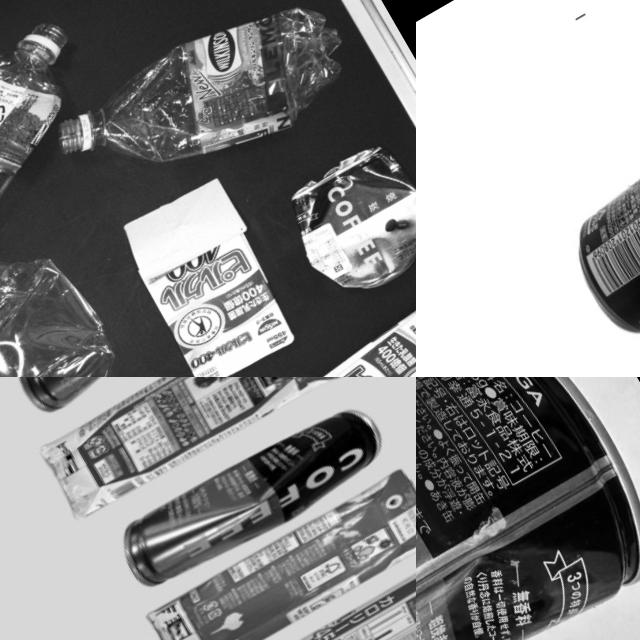Aluminium Foil: (24, 377, 352, 529), (141, 462, 416, 640), (93, 171, 311, 377), (160, 537, 416, 640), (237, 278, 416, 377)
Can: (416, 377, 640, 640), (115, 394, 393, 598), (543, 93, 640, 370), (274, 128, 416, 310), (10, 377, 294, 423)
Transparent Plastic Bottle: (50, 0, 365, 232), (0, 12, 140, 306), (0, 234, 158, 377)
